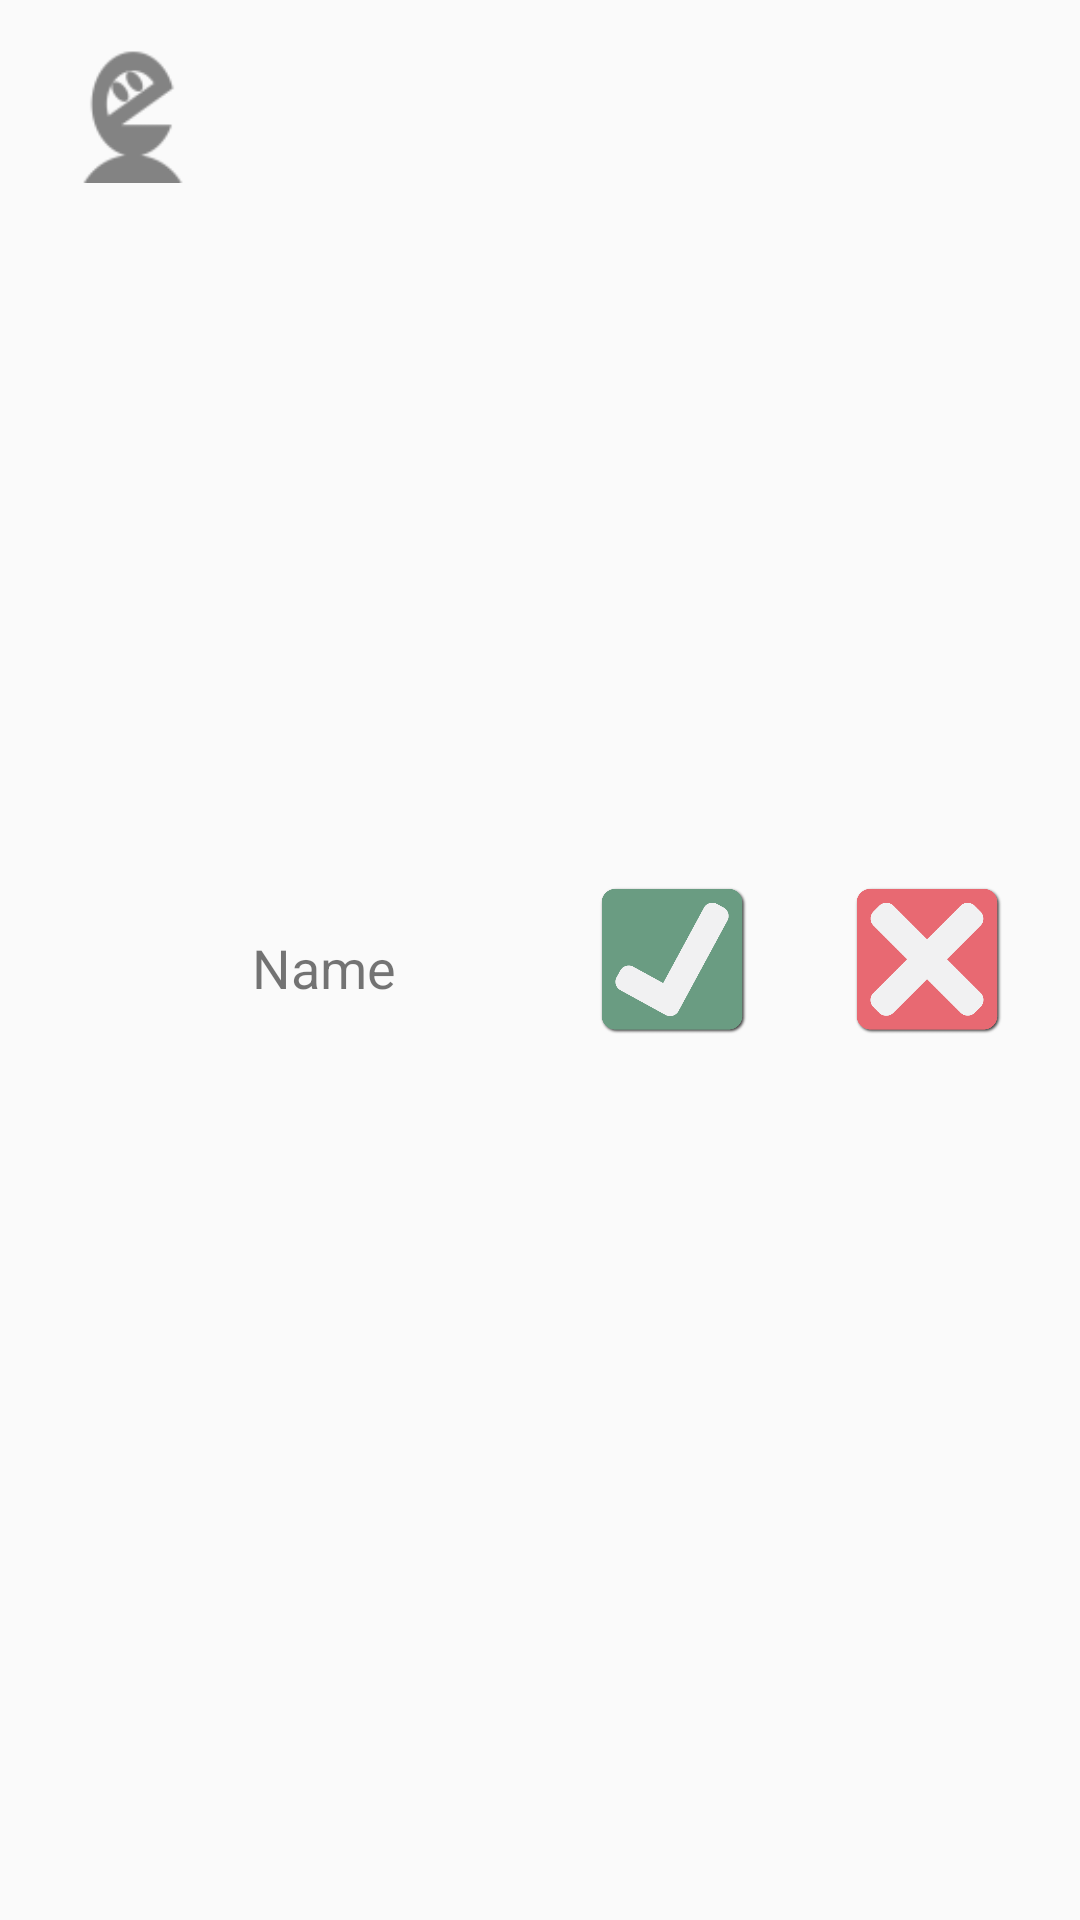

Icons on this 1080px x 1920px Android screen, each with the point to tap as [x,y]:
check: [673,961]
cross: [928,961]
profile: [133,117]
